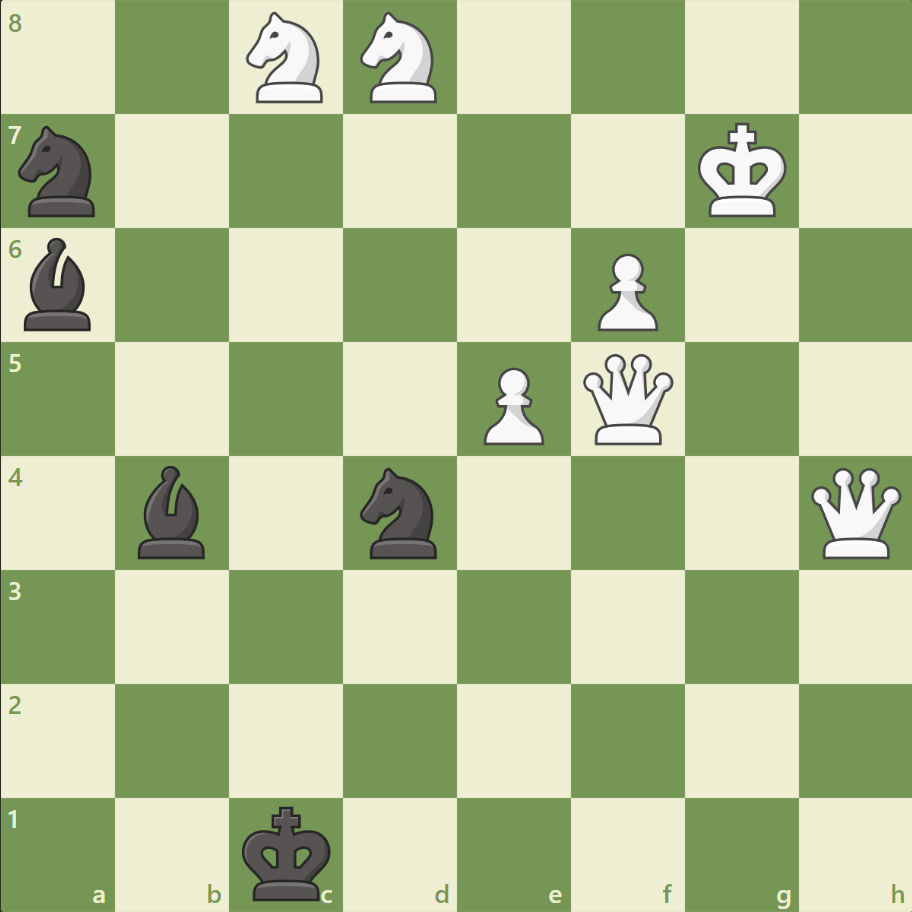K: (692, 117, 792, 225)
N: (351, 7, 449, 110), (238, 7, 335, 110)
P: (474, 359, 549, 450), (588, 246, 662, 337)
Q: (578, 349, 677, 449), (805, 463, 904, 562)
b: (17, 233, 101, 336), (131, 460, 215, 563)
k: (238, 798, 338, 906)
n: (351, 461, 449, 564), (11, 121, 108, 223)
